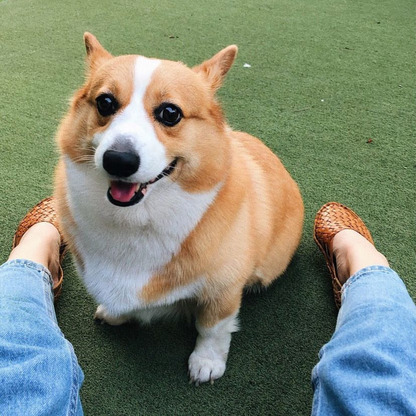Corgi: (46, 23, 314, 389)
